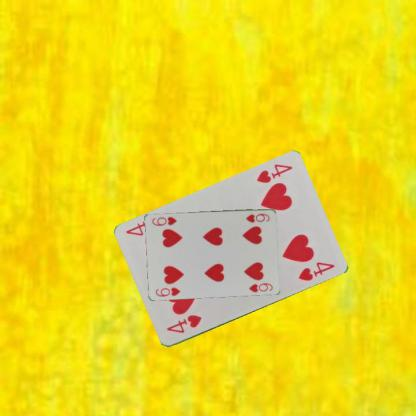4h: (163, 312, 203, 335), (254, 162, 294, 185)
6h: (153, 284, 182, 298), (243, 211, 271, 223)
